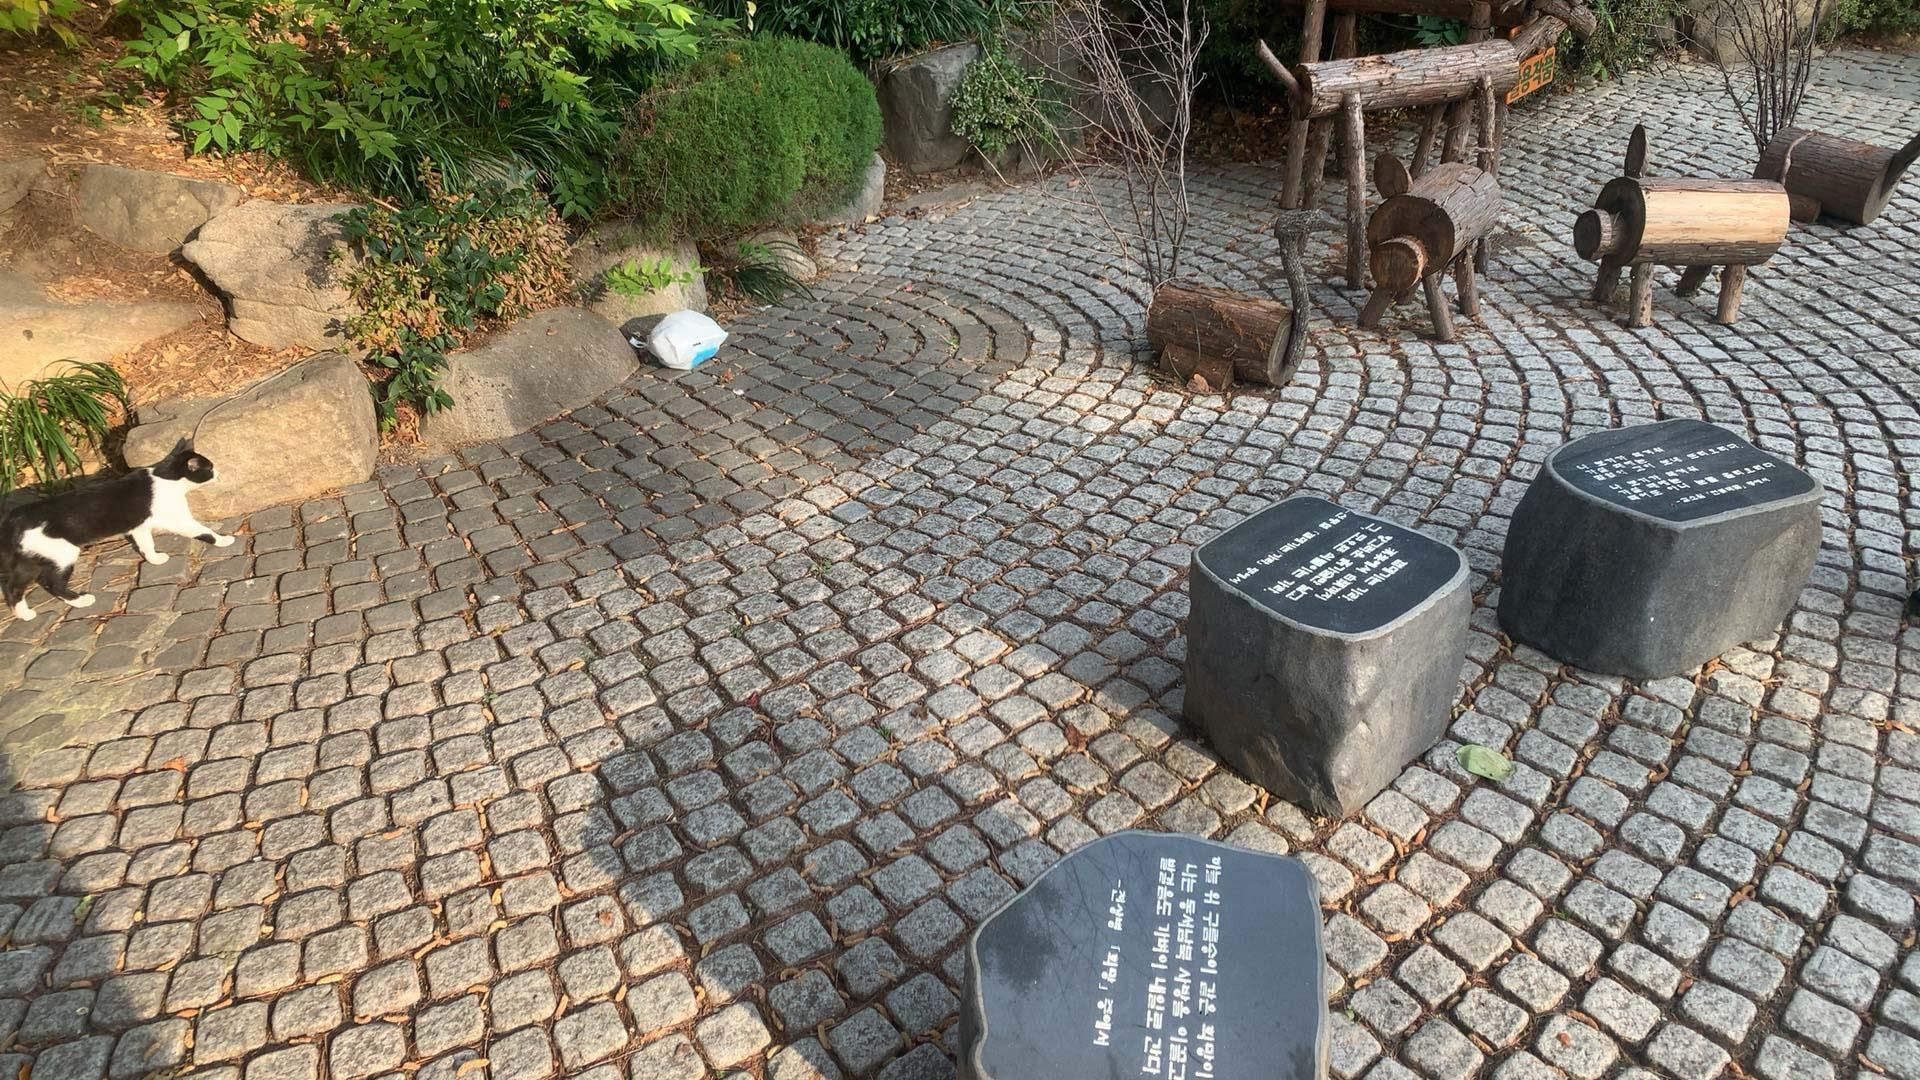white_bag: (620, 305, 731, 375)
